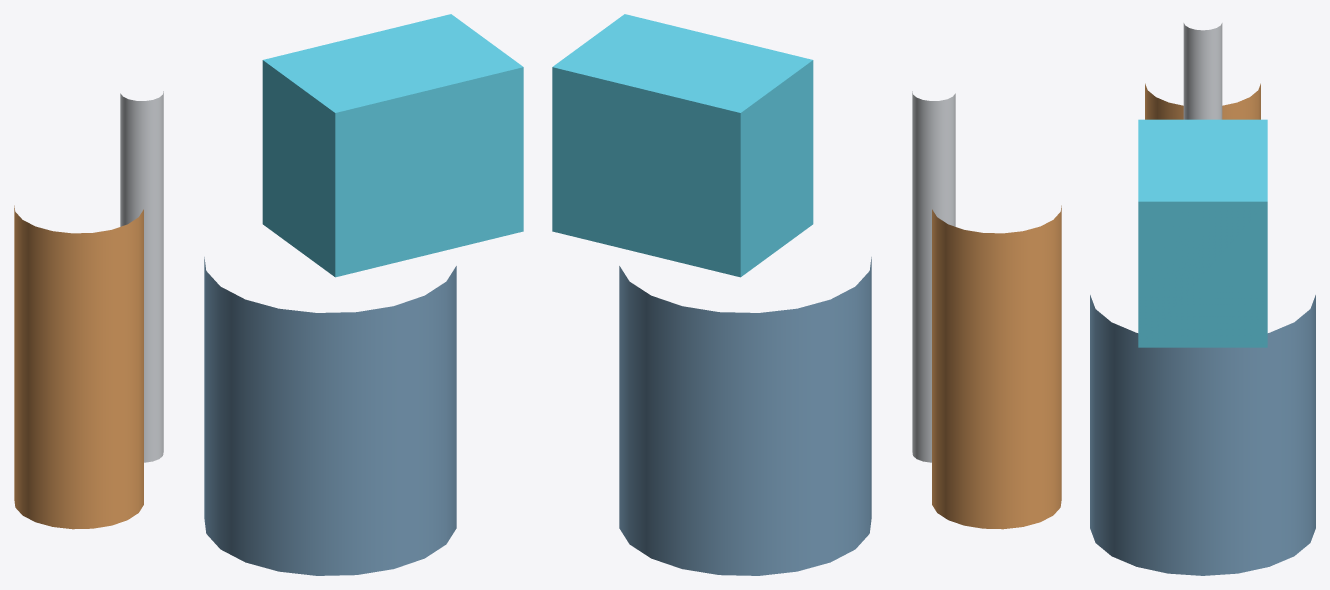
File: absorption_refrigeration_electrolux.glb
The picture shows the model from 3 angles, left to right: view 1: azimuth 30°, elevation 25°; view 2: azimuth 150°, elevation 25°; view 3: azimuth 270°, elevation 25°; orthographic projection. The views are drawn at different scales.
Visible parts, largest first — view 1: AbsorberCoilTubingAssembly, HydrogenEvaporatorChiller, GeneratorBoilerHeaterTube, BubblePumpPercolatorTube; view 2: AbsorberCoilTubingAssembly, HydrogenEvaporatorChiller, GeneratorBoilerHeaterTube, BubblePumpPercolatorTube; view 3: AbsorberCoilTubingAssembly, HydrogenEvaporatorChiller, BubblePumpPercolatorTube, GeneratorBoilerHeaterTube.
Boxes of the visible parts, x1=… form: AbsorberCoilTubingAssembly: x1=204, y1=257, x2=456, y2=575; HydrogenEvaporatorChiller: x1=262, y1=14, x2=523, y2=277; GeneratorBoilerHeaterTube: x1=14, y1=205, x2=143, y2=529; BubblePumpPercolatorTube: x1=120, y1=91, x2=163, y2=462; AbsorberCoilTubingAssembly: x1=619, y1=257, x2=871, y2=575; HydrogenEvaporatorChiller: x1=552, y1=14, x2=813, y2=277; GeneratorBoilerHeaterTube: x1=932, y1=205, x2=1061, y2=529; BubblePumpPercolatorTube: x1=912, y1=91, x2=955, y2=462; AbsorberCoilTubingAssembly: x1=1090, y1=295, x2=1315, y2=575; HydrogenEvaporatorChiller: x1=1138, y1=119, x2=1267, y2=347; BubblePumpPercolatorTube: x1=1183, y1=23, x2=1222, y2=119; GeneratorBoilerHeaterTube: x1=1145, y1=83, x2=1260, y2=119.
Bounding box in the file's own units: 1.48 × 1.45 × 0.7.
